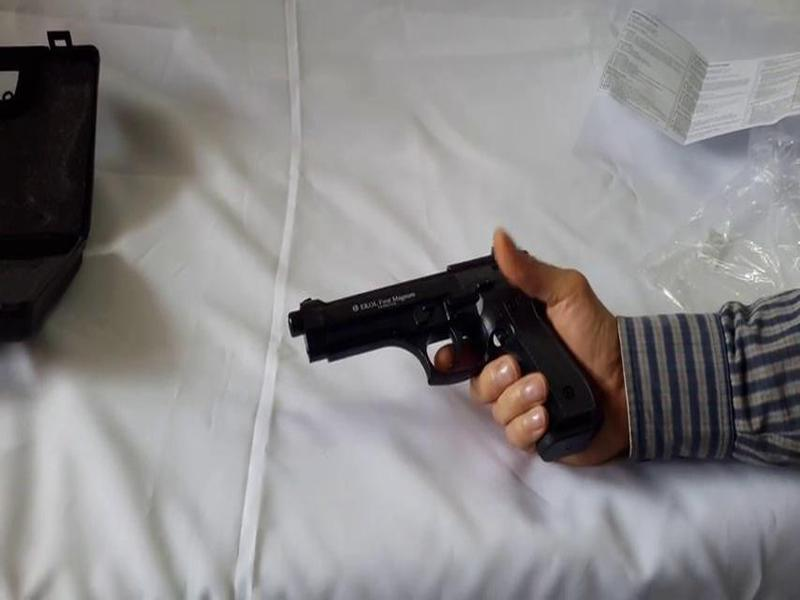Pistola: (267, 236, 612, 462)
